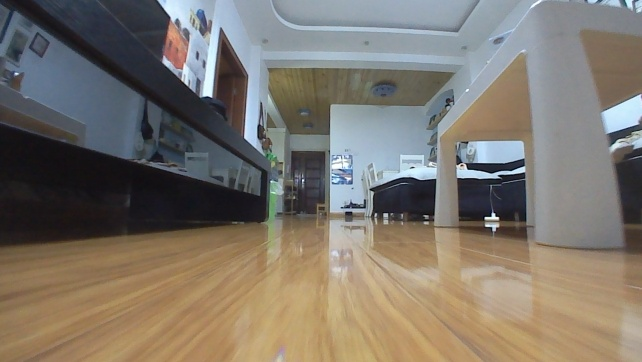door_anno: (289, 149, 325, 221)
sofa1: (366, 120, 641, 221)
tea_table1: (0, 0, 274, 232)
wire: (488, 185, 504, 217)
